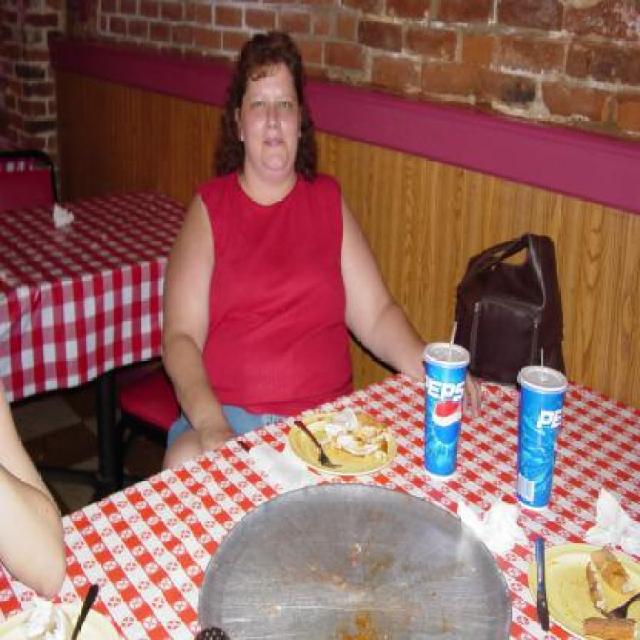Person: (162, 34, 428, 471), (0, 382, 63, 596)
